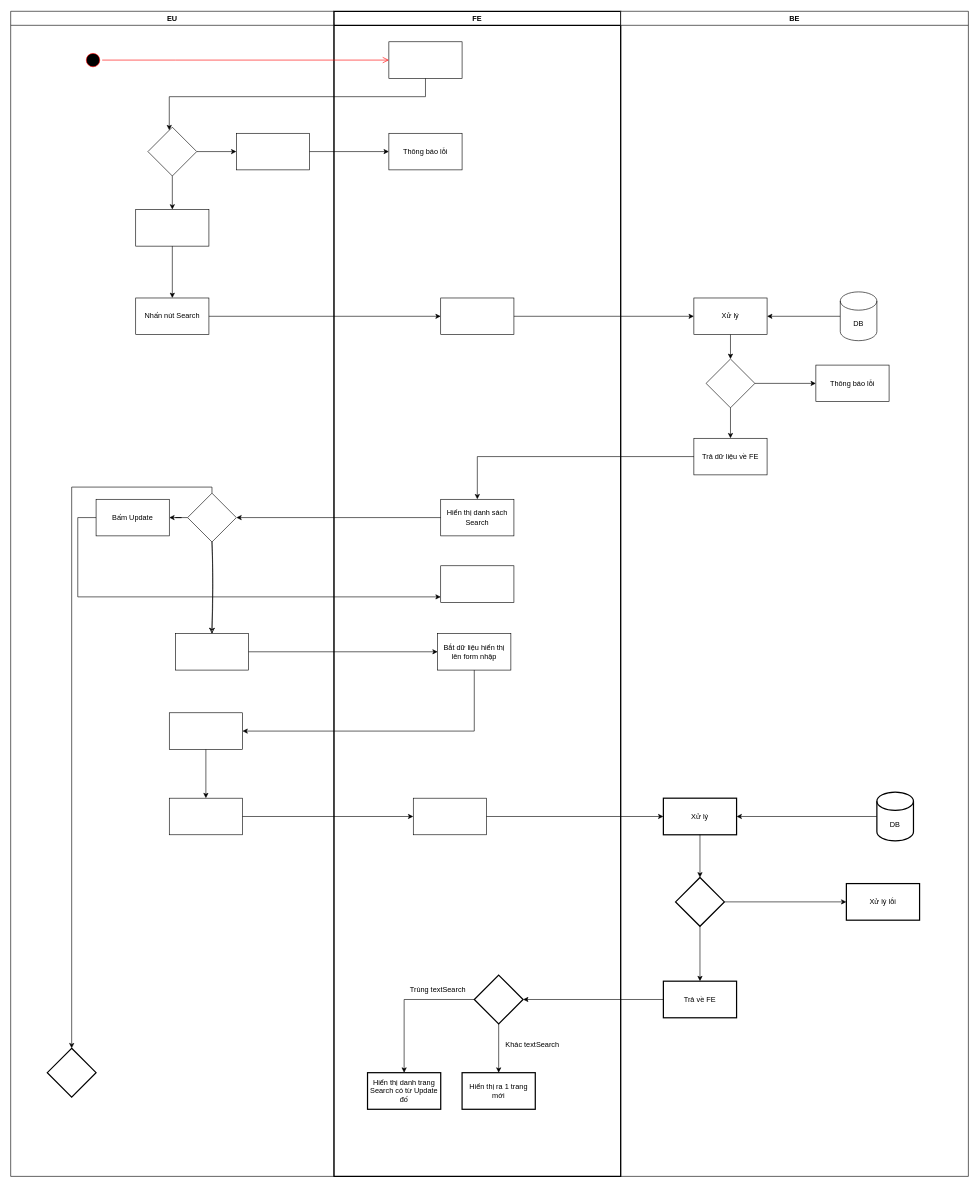
Image size: 979x1187. Some labels were removed from this diagram. Each missing label, with the centre of its shape:
"Bấm Search" goes at (x=273, y=151).
"Call API method Search" goes at (x=477, y=316).
"Call API method Update" goes at (x=449, y=816).
"Nhấn nameUpdate" goes at (x=205, y=730).
"Nhấn nút EDIT" goes at (x=212, y=651).
"Nhấn nút Update" goes at (x=205, y=816).
"Nhập form" goes at (x=425, y=59).
"Nhập nameSearch" goes at (x=172, y=227).
"Thông báo lỗii" goes at (x=477, y=583).
